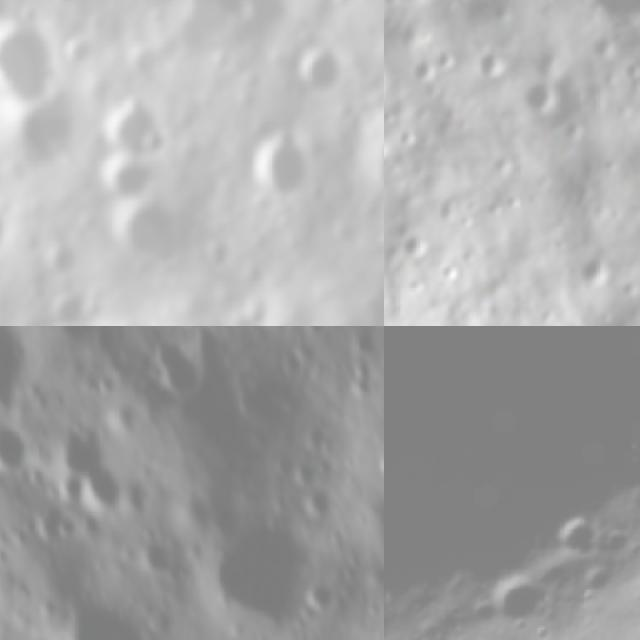crater: (196, 507, 317, 625), (56, 422, 131, 518), (48, 587, 176, 640), (5, 96, 79, 172), (149, 329, 218, 409), (0, 18, 55, 118), (482, 574, 564, 636), (238, 135, 310, 202), (545, 507, 609, 569), (118, 196, 175, 259), (296, 41, 336, 107), (97, 106, 159, 148), (360, 109, 384, 214), (95, 160, 161, 195), (0, 419, 39, 477), (48, 293, 85, 326), (477, 45, 509, 82), (61, 35, 95, 68), (202, 238, 234, 272), (47, 241, 78, 276), (297, 183, 334, 211), (584, 248, 608, 290), (524, 76, 550, 114), (133, 49, 166, 74), (437, 188, 459, 225), (561, 116, 588, 145), (504, 184, 528, 216), (18, 285, 49, 309), (431, 48, 462, 72), (384, 53, 399, 102), (396, 122, 424, 148), (144, 133, 173, 156), (601, 150, 623, 174), (588, 41, 610, 62), (440, 265, 461, 287), (87, 300, 107, 323), (415, 58, 434, 82), (107, 20, 129, 40), (625, 55, 640, 84), (622, 274, 638, 298), (462, 250, 482, 268), (409, 276, 426, 297), (458, 215, 477, 232), (485, 200, 502, 217), (341, 72, 352, 98), (464, 200, 484, 213), (598, 310, 614, 325), (330, 0, 351, 11), (635, 222, 640, 253), (55, 0, 80, 6)
